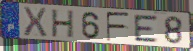6: (80, 10, 101, 40)
8: (163, 15, 184, 45)
E: (132, 14, 160, 43)
F: (105, 11, 131, 42)
H: (51, 9, 76, 40)
X: (22, 6, 49, 38)
